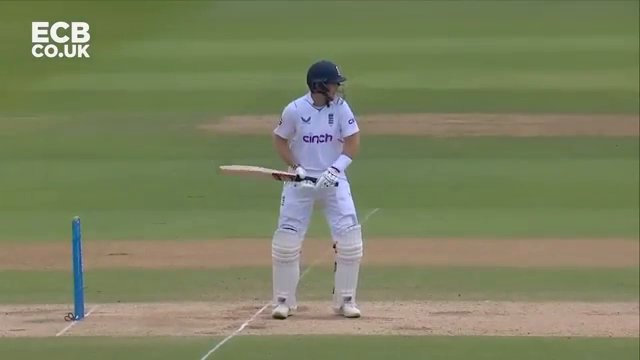batsman: (220, 59, 368, 322)
